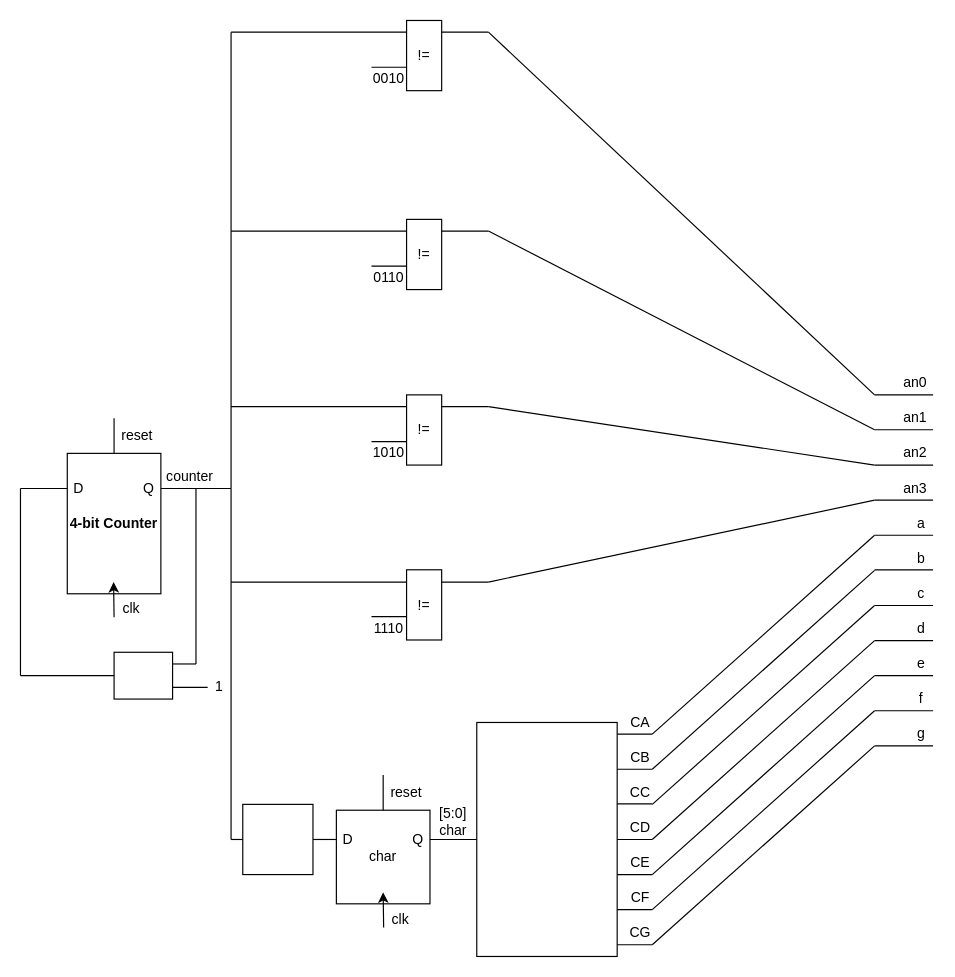
Some shapes in this 955 by 977 pixel diagram are drawn without their labels. The centre of each missing label's shape, as x and y in pixels:
"4-bit Adder" goes at (143,675).
"counter to character logic" goes at (277,839).
"LEDdecoder" goes at (546,838).
